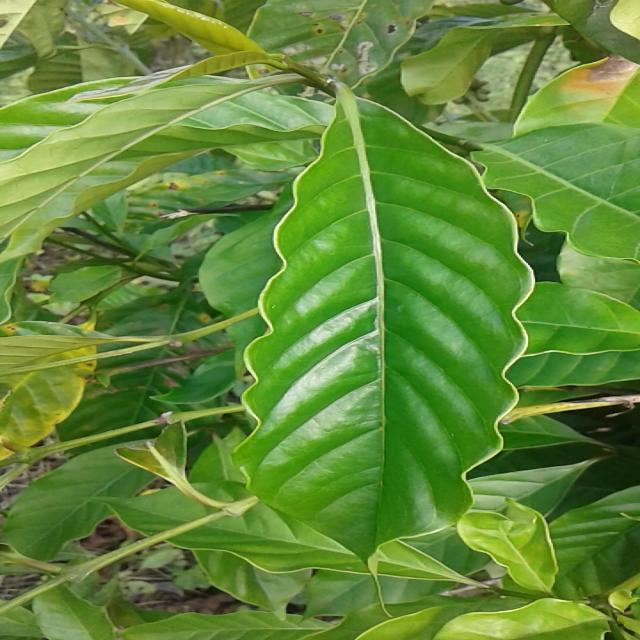Sanas: (227, 86, 536, 564)
